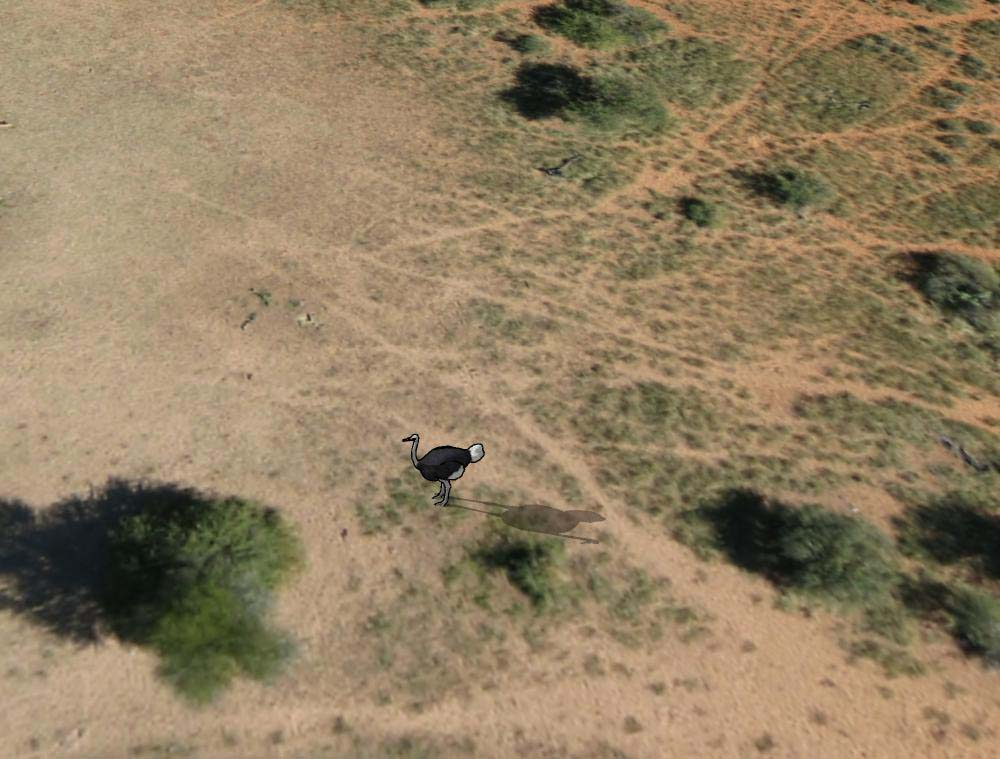springbok: (400, 428, 487, 511)
